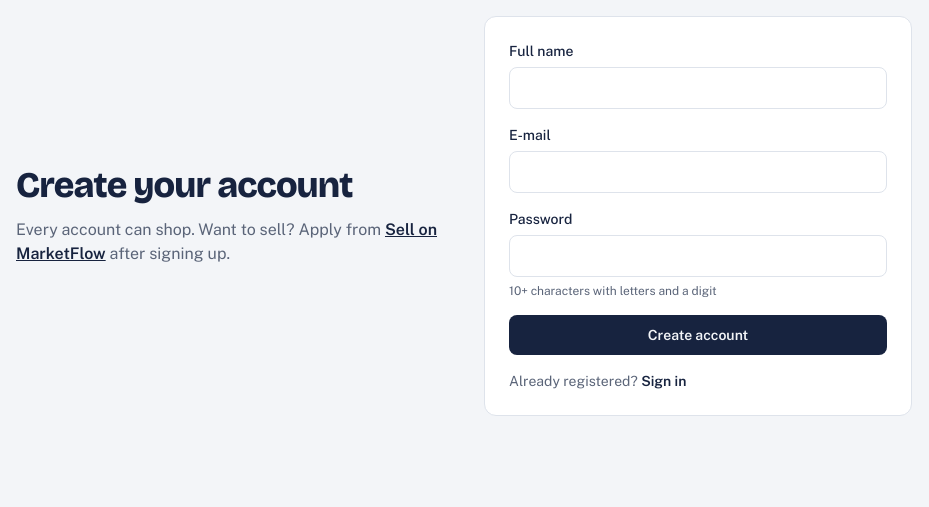
Test case: registration › maps server field errors onto the form
In the field labelled "Full name": [698, 88] box x1=509 y1=67 x2=887 y2=109, type "Ada Moreno"
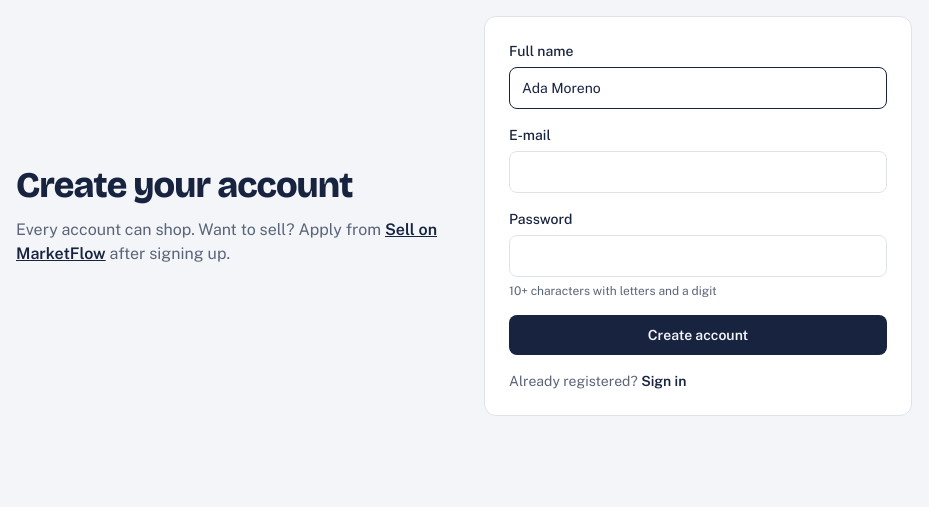
In the field labelled "E-mail": [698, 172] box x1=509 y1=151 x2=887 y2=193, type "ada@example.com"
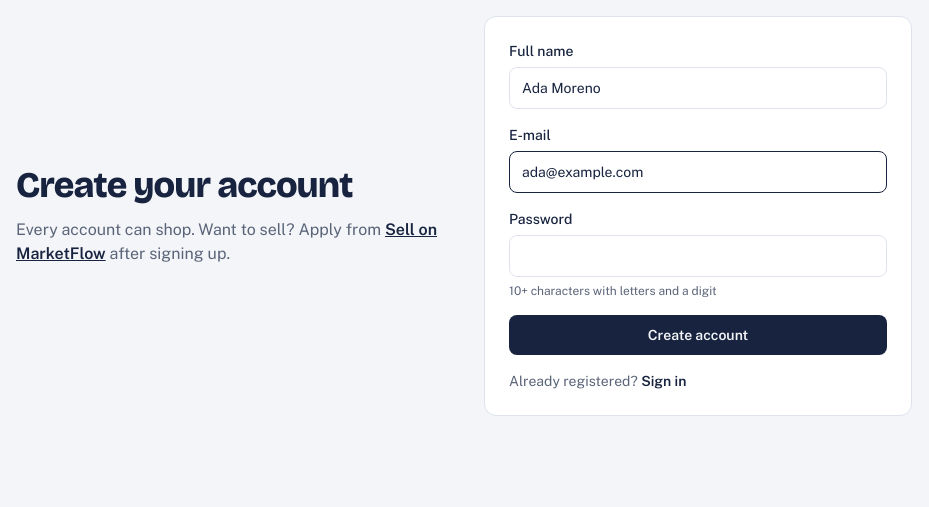
In the password field labelled "Password": [698, 256] box x1=509 y1=235 x2=887 y2=277, type "CorrectHorse12"
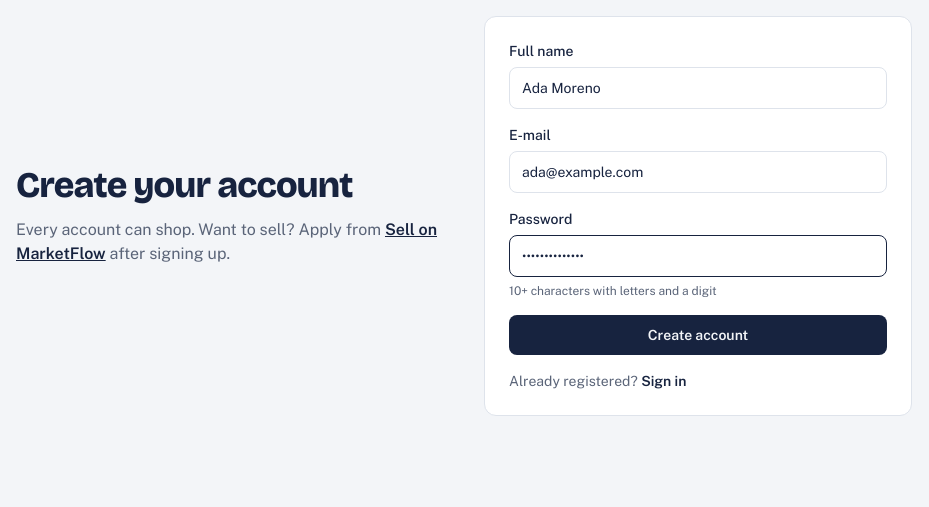
Click the button "Create account": [698, 335] box x1=509 y1=315 x2=887 y2=355
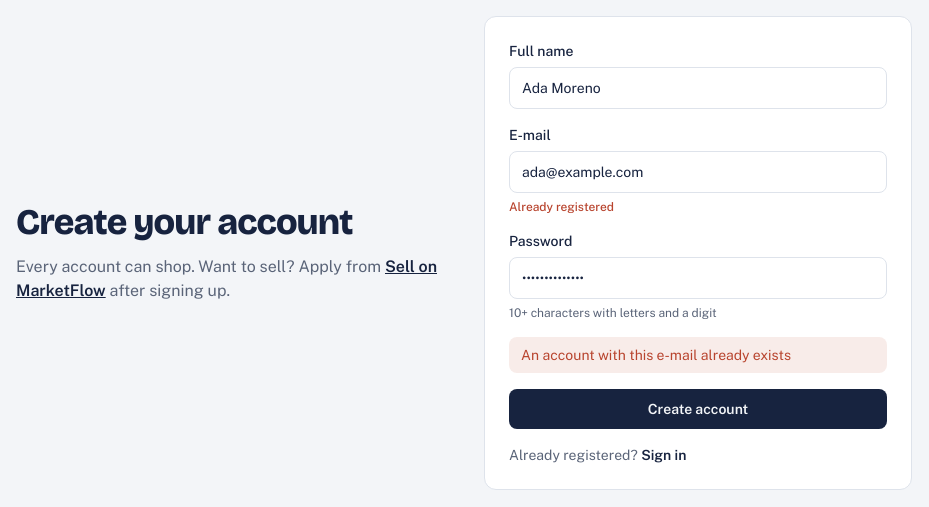
Check: the text "Already registered" is shown, box x1=509 y1=200 x2=614 y2=214
Check: the message shows "already exists", box x1=521 y1=347 x2=791 y2=363
